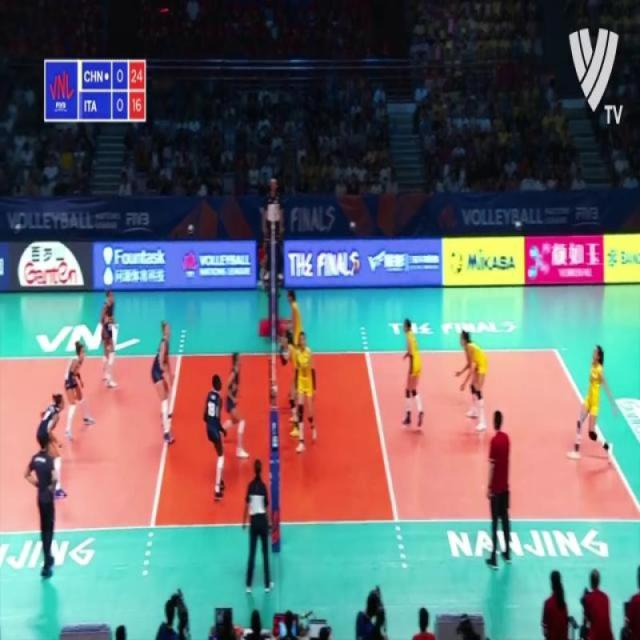volleyball: (448, 249, 464, 279), (350, 258, 361, 274)
